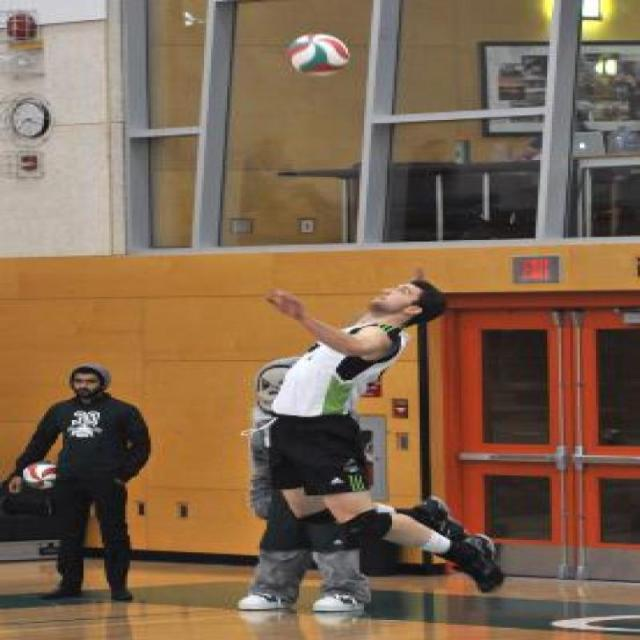volleyball: (286, 31, 352, 77), (19, 461, 60, 489)
